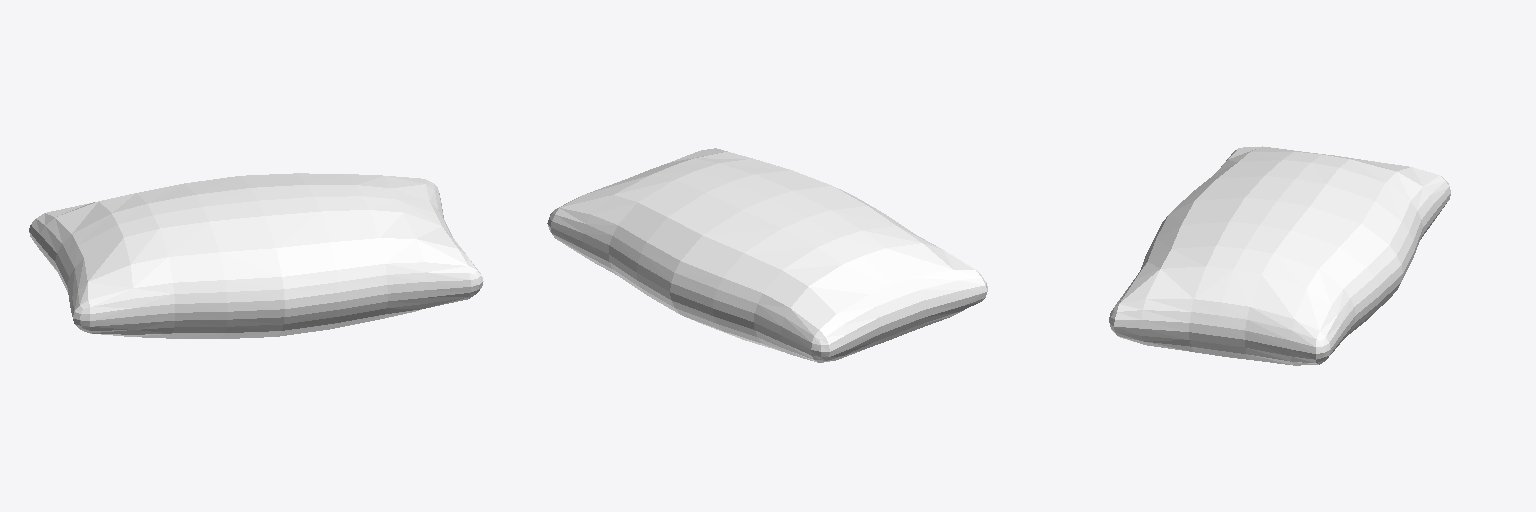
The model's file is coussin.obj.
3 renders of one model, left to right at view 1: azimuth 30°, elevation 25°; view 2: azimuth 150°, elevation 25°; view 3: azimuth 270°, elevation 25°, orthographic.
Parts seen in each view (by area): view 1: coussin1_Mesh.005; view 2: coussin1_Mesh.005; view 3: coussin1_Mesh.005.
Part boxes in pixels (x1,y1,x2,y2): coussin1_Mesh.005: (29, 173, 483, 338); coussin1_Mesh.005: (547, 148, 987, 362); coussin1_Mesh.005: (1109, 146, 1450, 365).
Bounding box in the file's own units: 1.93 × 0.5128 × 1.42.